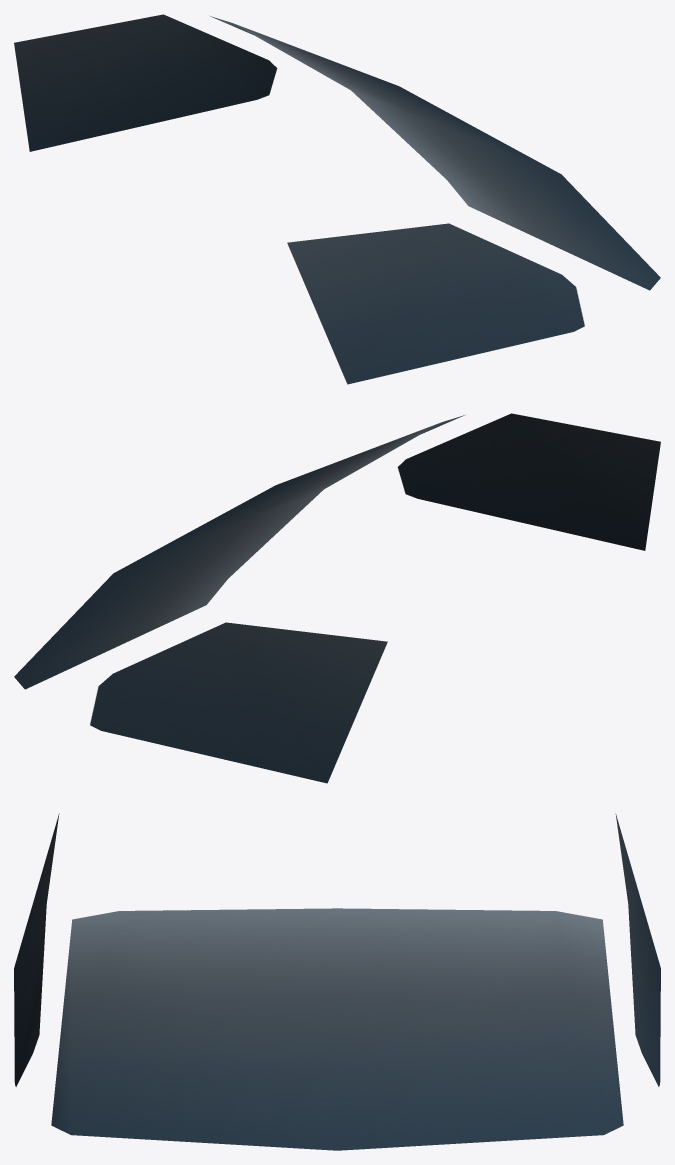
File: JianKongJieDao_01_chuzuche_02.FBX
The picture shows the model from 3 angles, top to bottom: view 1: azimuth 30°, elevation 25°; view 2: azimuth 150°, elevation 25°; view 3: azimuth 270°, elevation 25°; orthographic projection.
Parts seen in each view (by area): view 1: JianKongJieDao_01_boli_02; view 2: JianKongJieDao_01_boli_02; view 3: JianKongJieDao_01_boli_02.
Part boxes in pixels (left/top/right/bottom): JianKongJieDao_01_boli_02: left=14, top=14, right=660, bottom=384; JianKongJieDao_01_boli_02: left=14, top=413, right=660, bottom=783; JianKongJieDao_01_boli_02: left=14, top=813, right=660, bottom=1150.
Size of the model in its own units: 274 by 90 by 367.
